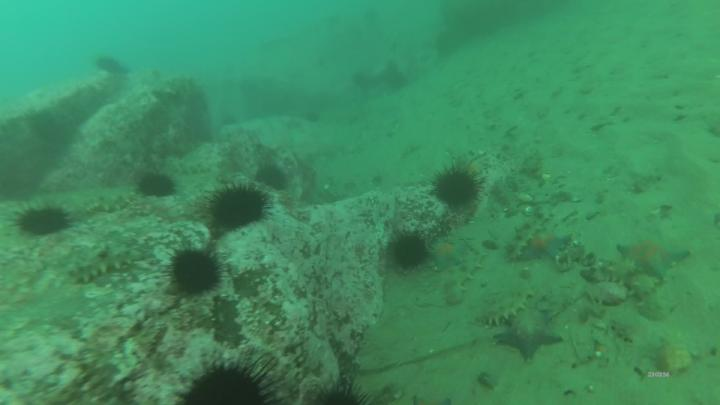echinus: (180, 365, 267, 405), (170, 252, 222, 294), (219, 189, 265, 229), (436, 171, 478, 210), (18, 211, 68, 238), (397, 237, 432, 267), (259, 165, 289, 189), (98, 57, 121, 75)
holothurian: (65, 252, 148, 283), (484, 286, 531, 325), (613, 264, 657, 300), (457, 250, 484, 292), (86, 193, 137, 215), (170, 161, 214, 177)
starfish: (497, 314, 563, 365), (618, 241, 689, 277), (520, 230, 572, 263)
